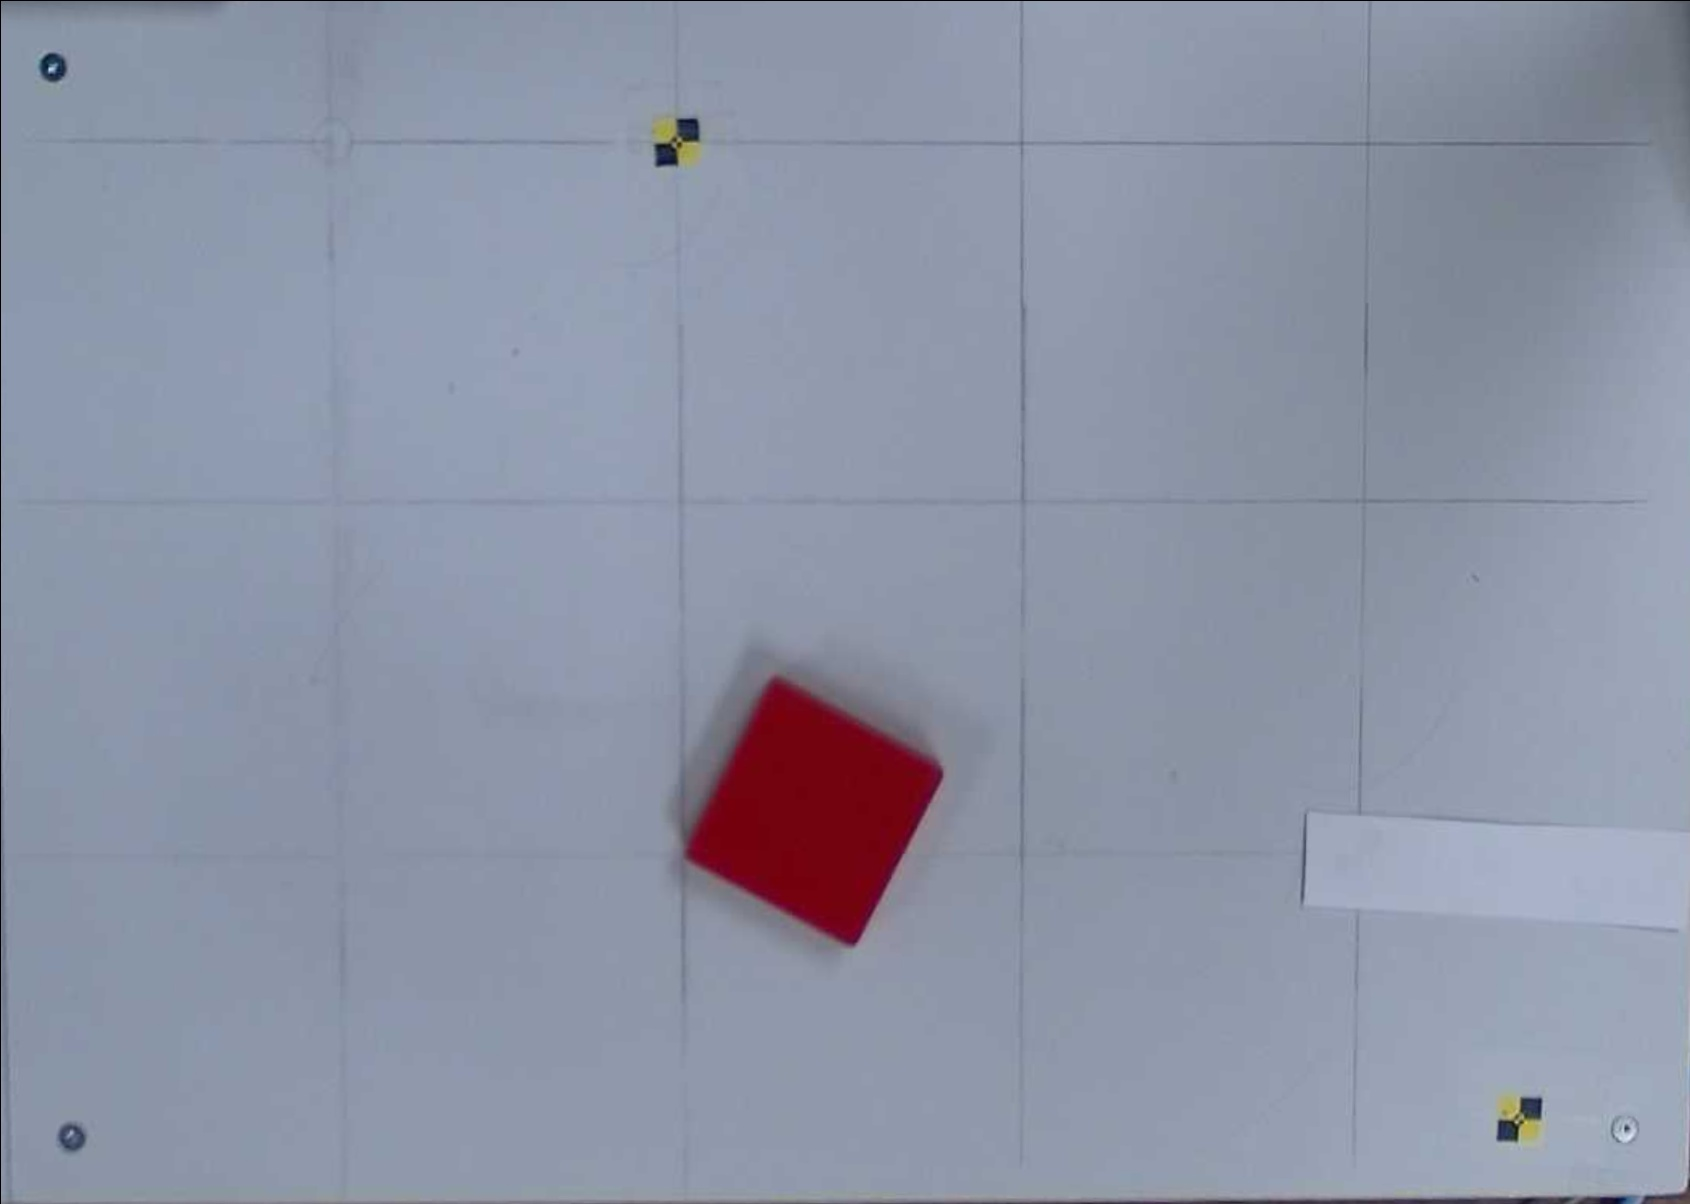Square: (684, 676, 946, 951)
